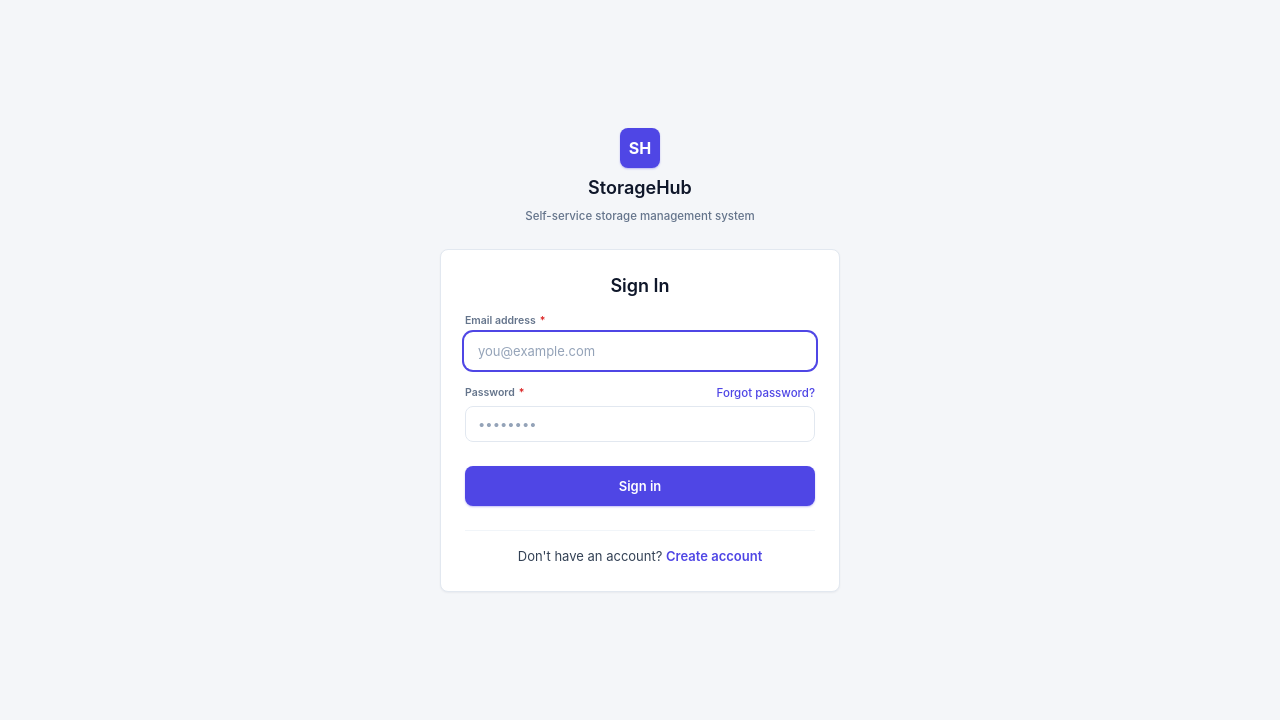
Test: Authentication & Auth Screens › Forgot Password Modal & Page › opens modal from login page, submits email, and shows generic message without leaking account state
Step 1. Click the button "Forgot password?" → (766, 394), box [717,385,815,402]
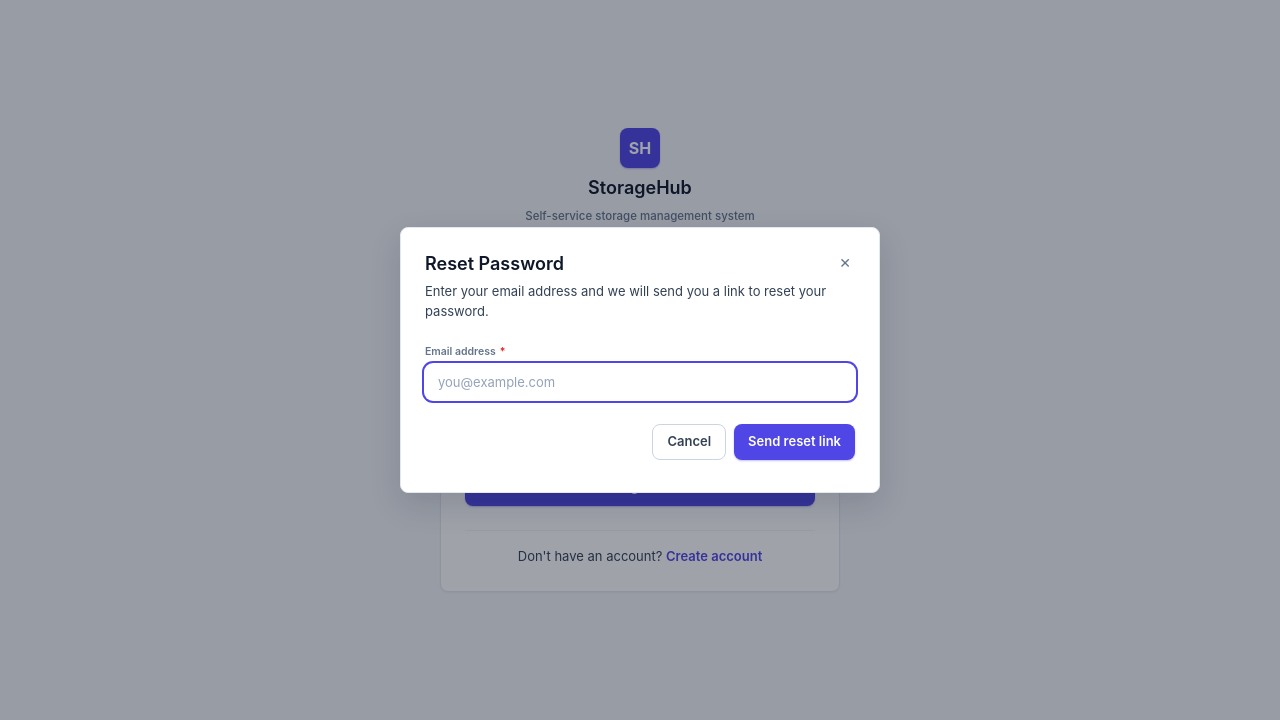
expect the heading "Reset Password" is shown: met, box [425,253,564,274]
Step 2. Type "nonexistent@nowhere.dev" into the field labelled "Email address *" → (640, 382), box [425,364,855,400]
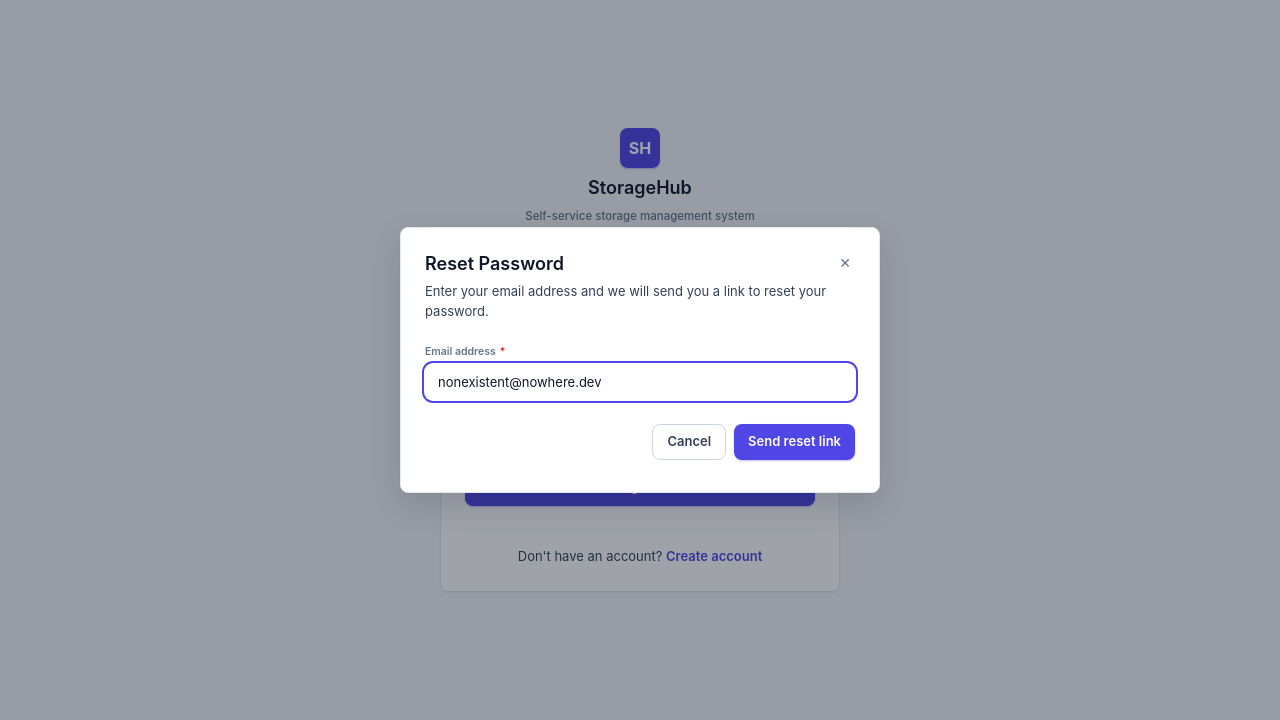
Step 3. Click the button "Send reset link" → (795, 442), box [734,424,855,460]
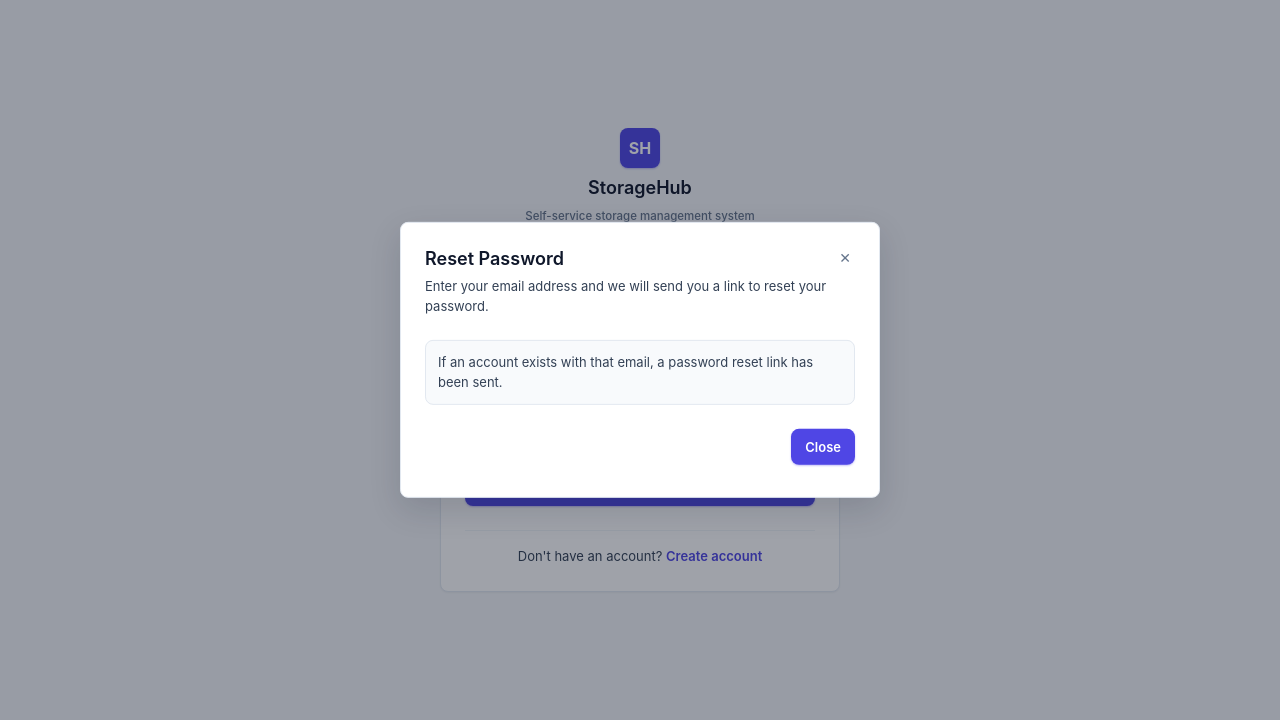
expect the message reads "If an account exists with that email, a password reset link has been sent.": met, box [438,354,813,390]
Close modal
Step 4. Click the button named "close" → (845, 258), box [835,247,855,269]
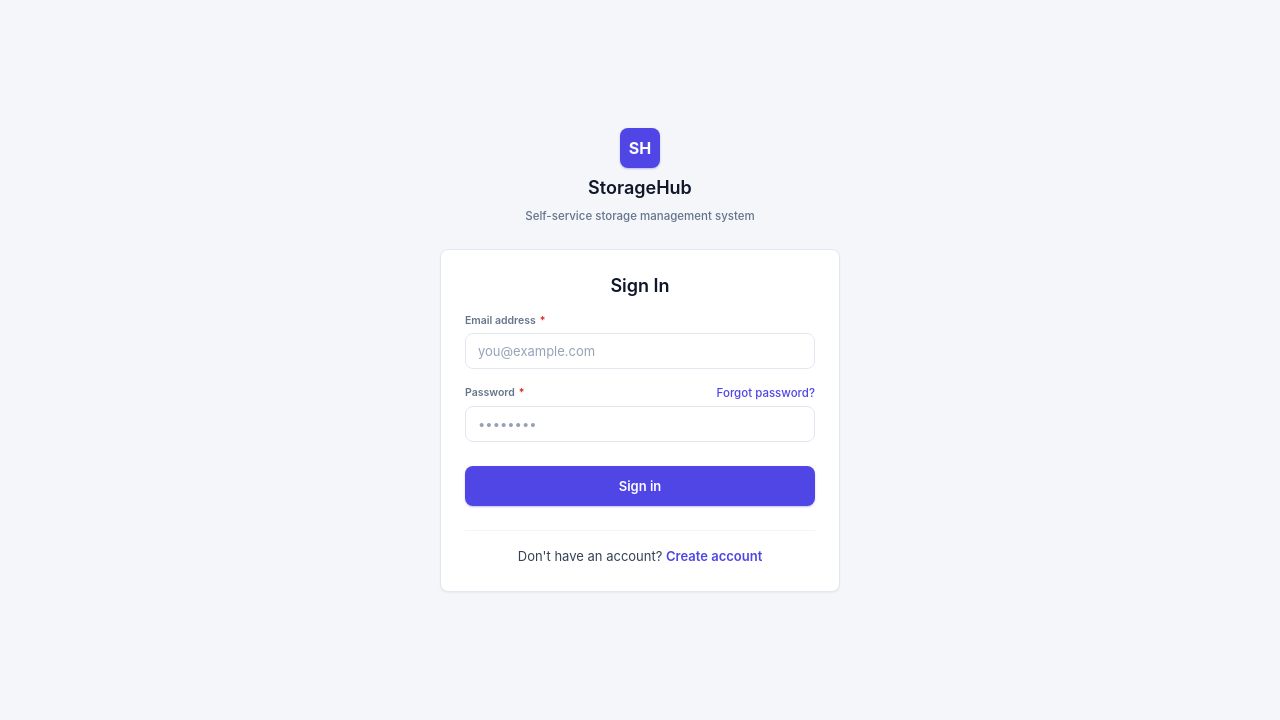
expect the message "If an account exists with that email, a password reset link has been sent." is gone: met
